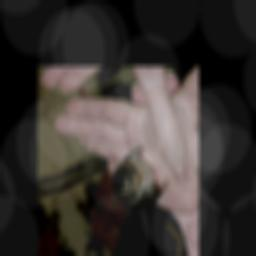Swallow: (99, 138, 182, 237)
